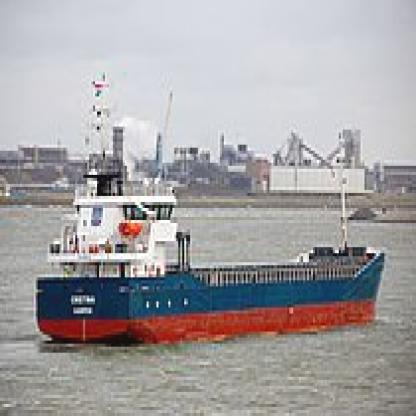Tanker: (26, 160, 396, 352)
